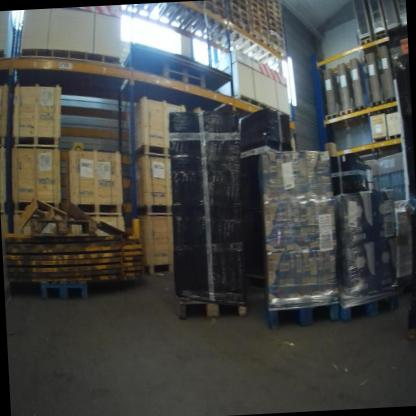pallet: (19, 41, 121, 94), (260, 282, 343, 339), (170, 284, 246, 328), (336, 277, 399, 326), (222, 92, 294, 132), (34, 270, 101, 311), (175, 0, 229, 42), (210, 19, 256, 53), (238, 29, 273, 67), (162, 68, 206, 97), (252, 42, 289, 76), (131, 139, 177, 163), (12, 196, 61, 217), (14, 131, 58, 153), (73, 199, 121, 219), (159, 59, 205, 79), (137, 198, 176, 221), (143, 256, 172, 282), (349, 99, 372, 124), (356, 34, 375, 63), (323, 108, 344, 132), (337, 105, 357, 128), (368, 94, 385, 113), (382, 92, 400, 109), (373, 30, 387, 51), (389, 128, 402, 144)
